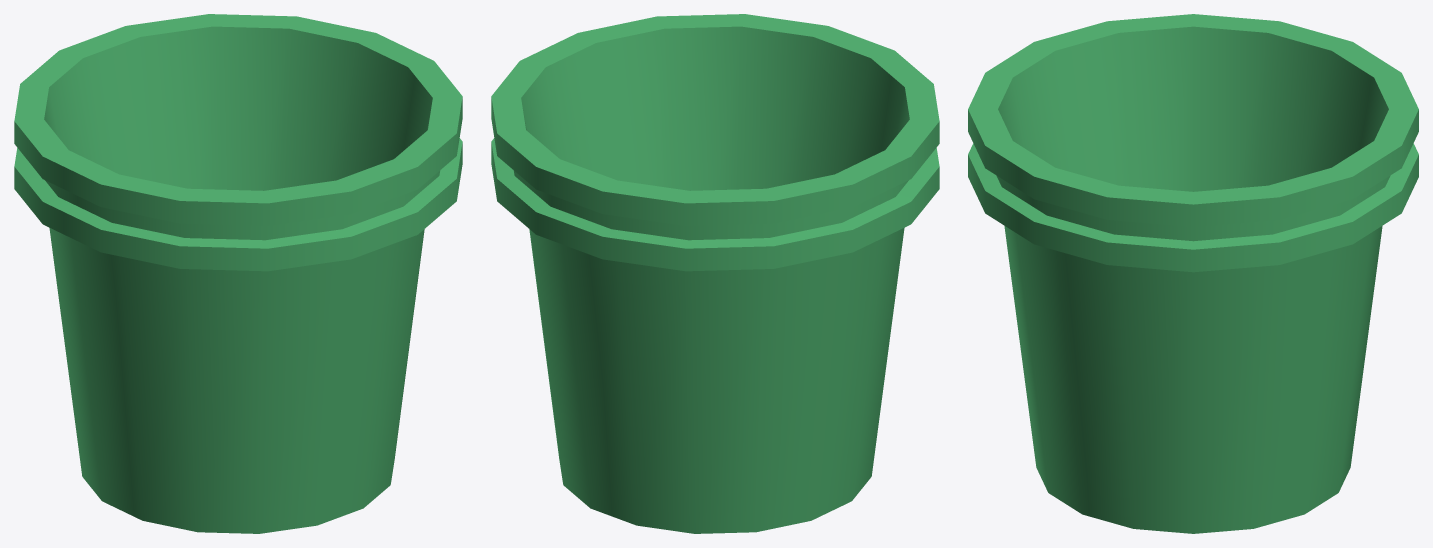
File: Bucket.fbx
3 views of the same model, side by side, from view 1: azimuth 30°, elevation 25°; view 2: azimuth 150°, elevation 25°; view 3: azimuth 270°, elevation 25° (orthographic).
Parts seen in each view (by area): view 1: Bucket; view 2: Bucket; view 3: Bucket.
Boxes of the visible parts, bbox=[...] form: Bucket: bbox=[14, 14, 462, 533]; Bucket: bbox=[491, 14, 939, 533]; Bucket: bbox=[968, 14, 1418, 533].
Size of the model in its own units: 158 by 139 by 158.
